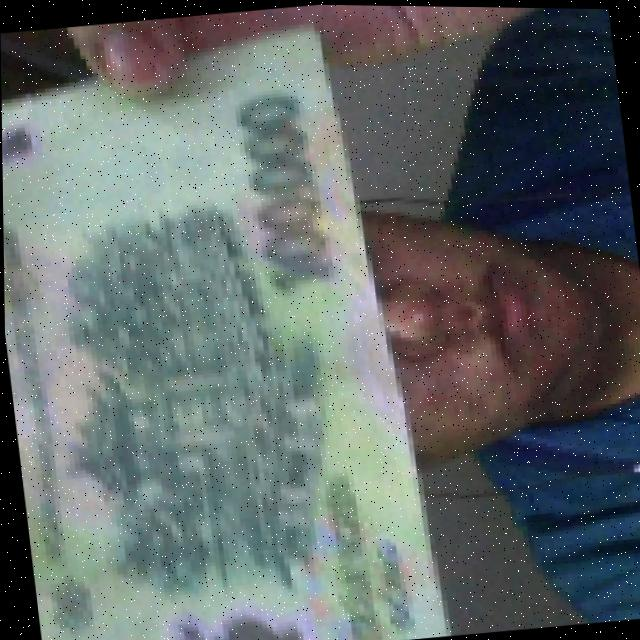100 000 VND: (0, 6, 463, 640)
